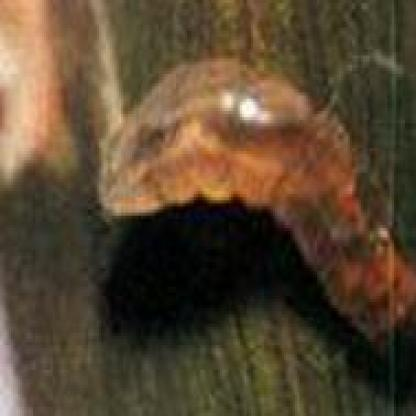whorl-maggot: (97, 58, 416, 362)
